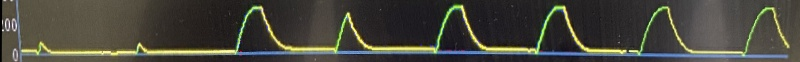normal_volume: (242, 0, 788, 62)
